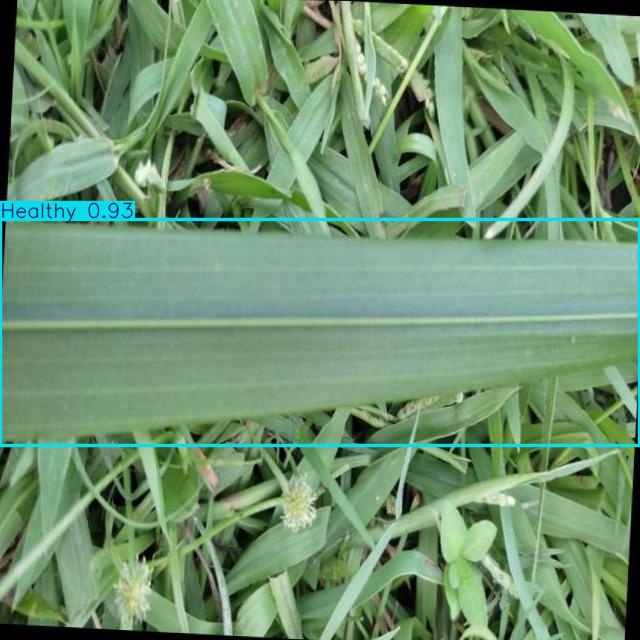Healthy: (0, 220, 639, 445)
